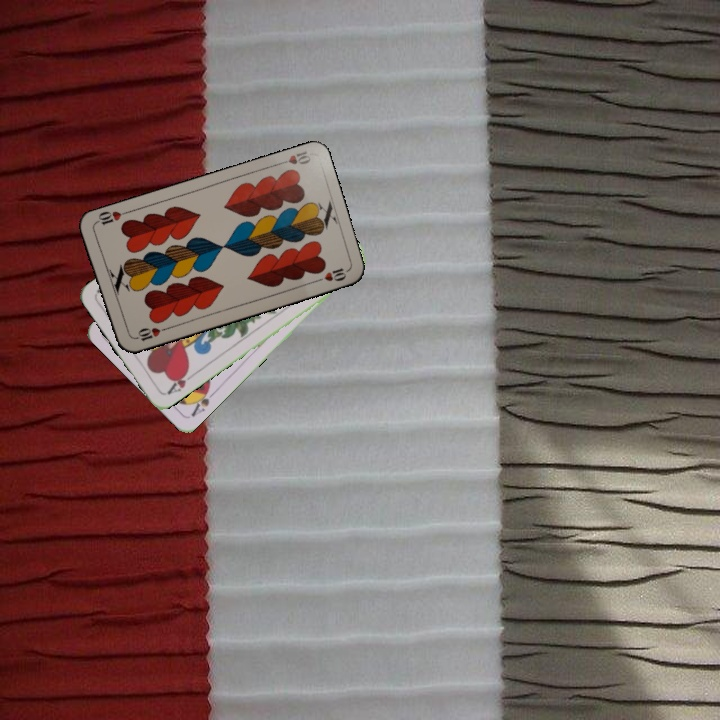H10: (273, 147, 313, 168), (130, 323, 170, 343)
HA: (163, 365, 198, 397)
SA: (186, 382, 218, 419)
